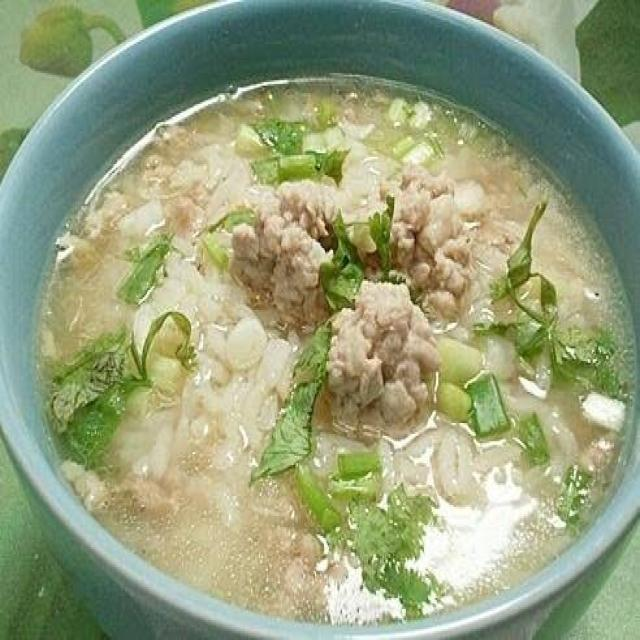carb: (83, 151, 270, 547)
meat: (258, 156, 451, 412)
rice porridge: (20, 43, 627, 602)
vegetable: (262, 406, 432, 597)
